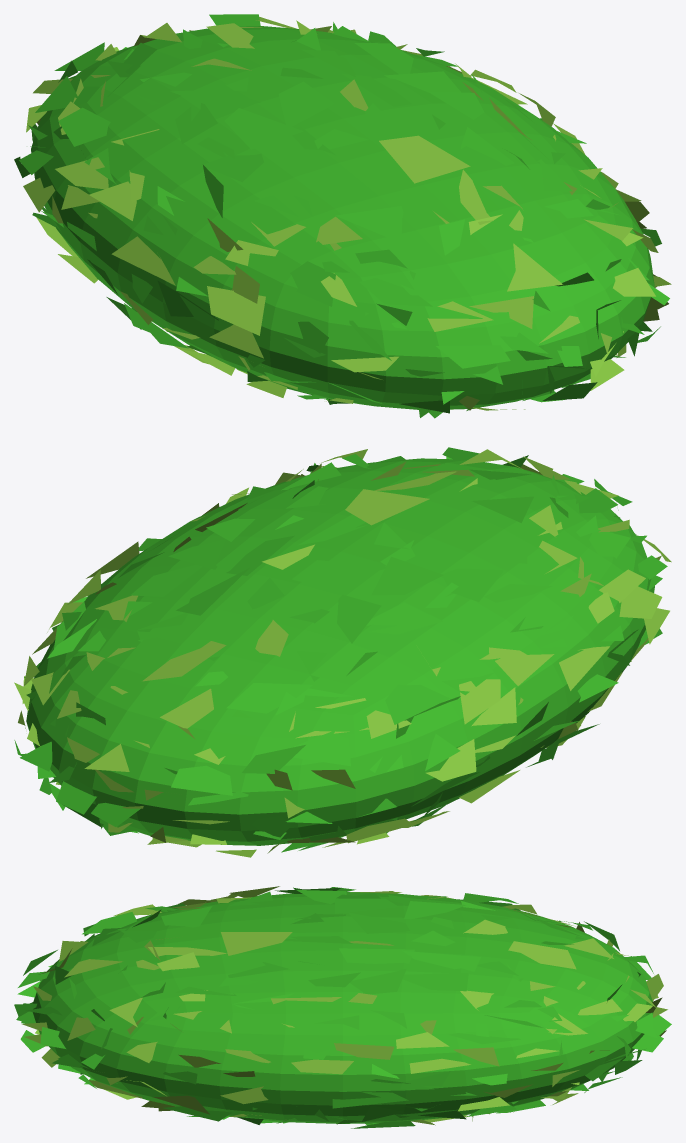
Rendered from Bush_2.fbx.
The picture shows the model from 3 angles, top to bottom: view 1: azimuth 30°, elevation 25°; view 2: azimuth 150°, elevation 25°; view 3: azimuth 270°, elevation 25°; orthographic projection. The views are drawn at different scales.
Parts seen in each view (by area): view 1: Cube.008; view 2: Cube.008; view 3: Cube.008.
Part boxes in pixels (box(x1,y1,x2,y2)): Cube.008: box(14, 14, 671, 418); Cube.008: box(14, 447, 671, 857); Cube.008: box(14, 886, 671, 1128).
Size of the model in its own units: 92.59 by 39.19 by 146.
